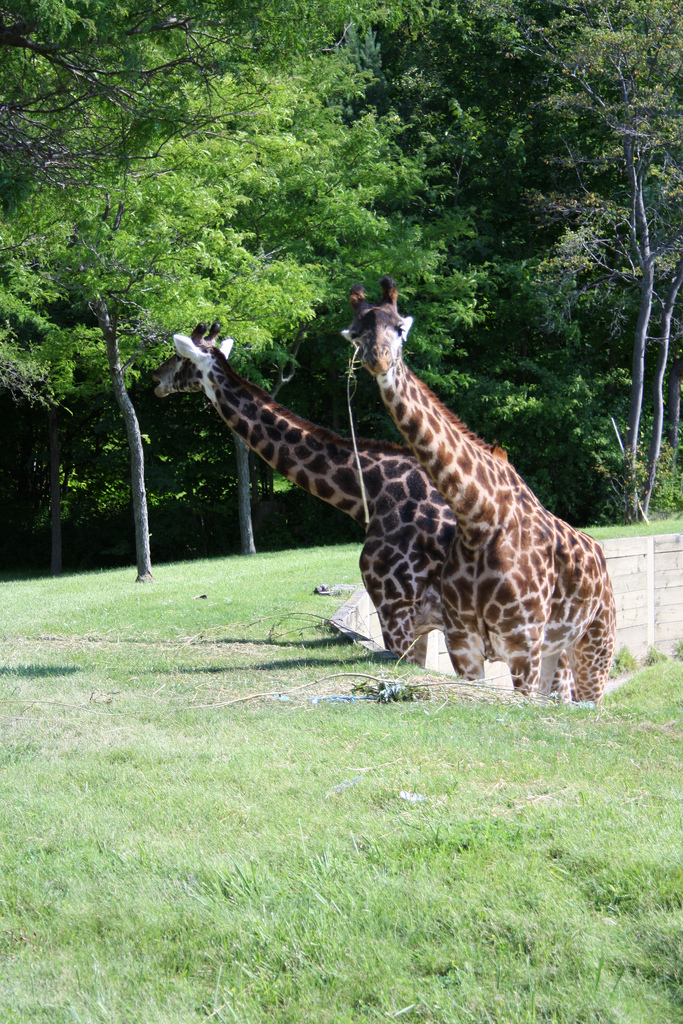giraffe: (346, 303, 642, 699), (137, 328, 456, 654)
